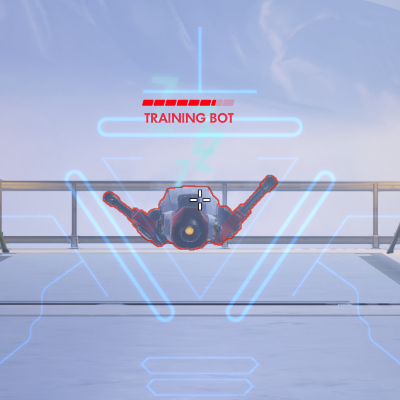hpbar: (142, 99, 235, 106)
